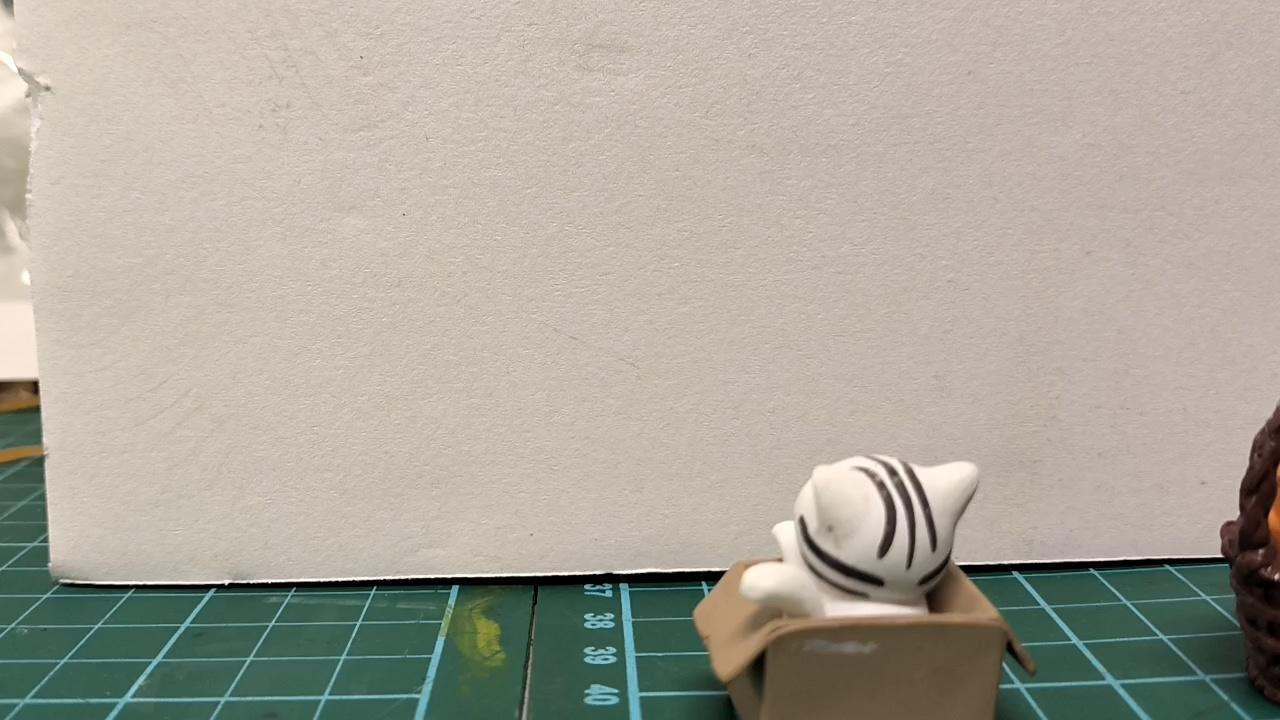pet: (729, 450, 992, 623)
